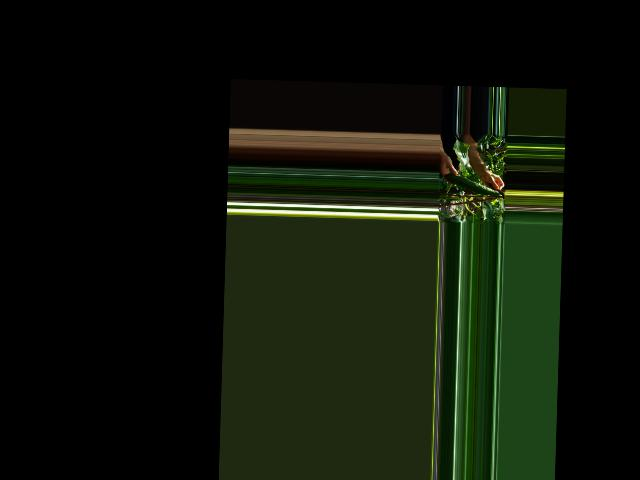cucumber: (443, 173, 499, 196)
